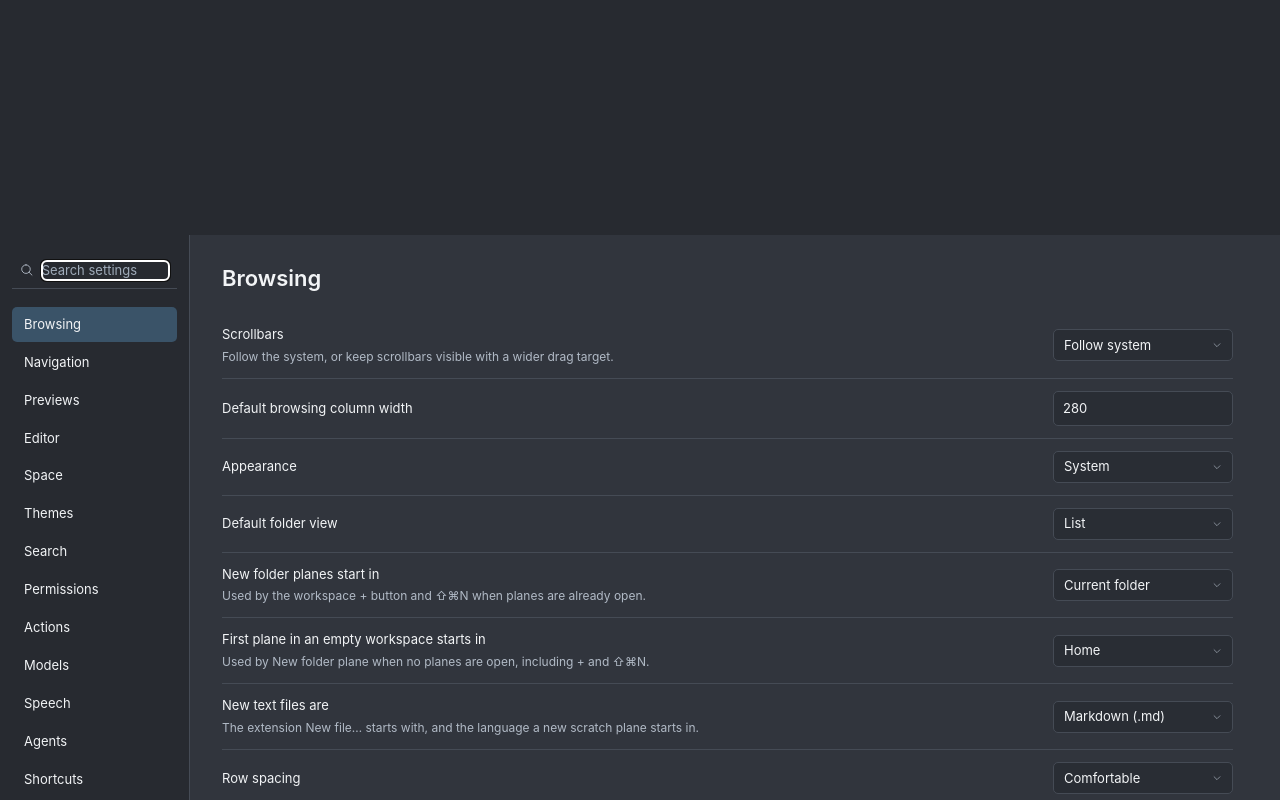
offers the four choices, with nothing beneath Off
expect the heading "Browsing" is shown: met, box top-left (222, 265), bottom-right (321, 291)
Click the button "Previews": click(94, 400) top-left (12, 383), bottom-right (177, 418)
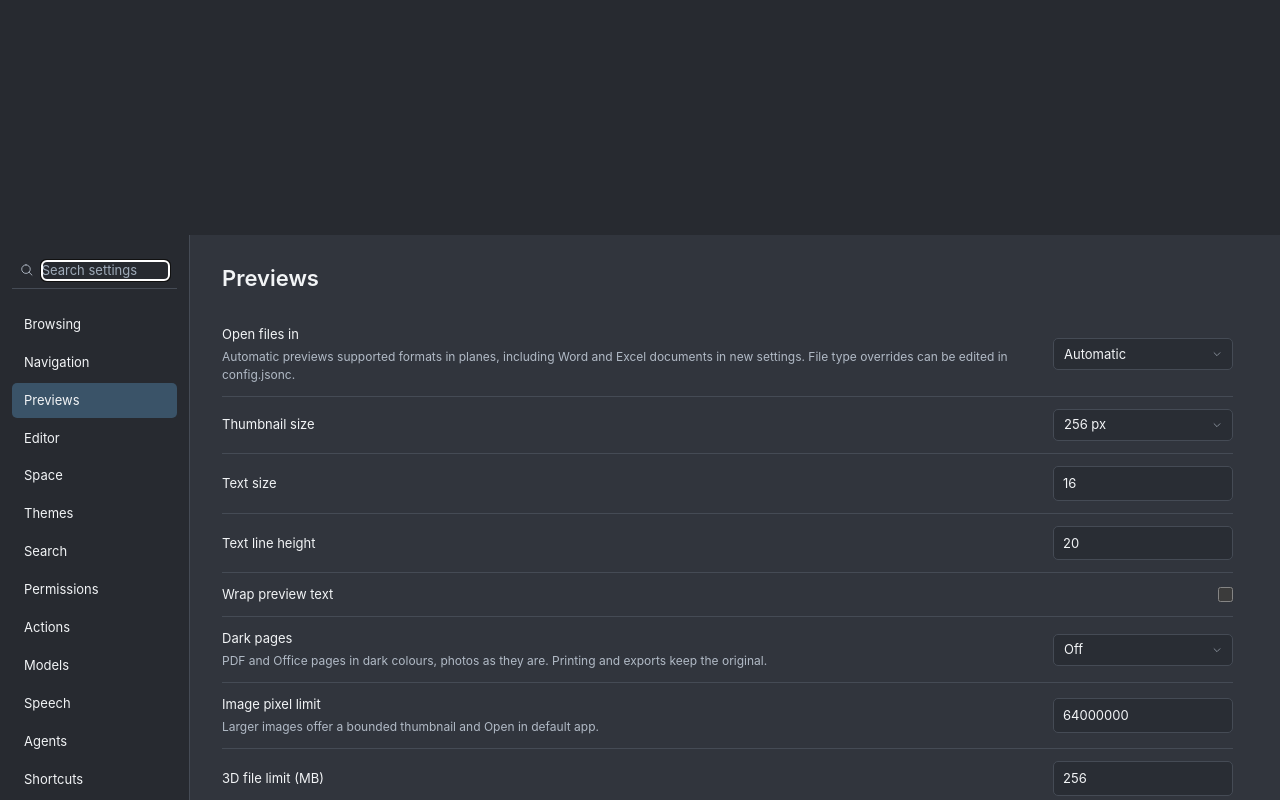
expect the heading reads "Previews": met, box top-left (222, 265), bottom-right (319, 291)
expect the label that starts with "Dark pages" is shown: met, box top-left (222, 630), bottom-right (292, 646)
expect the label that starts with "Dark pages" shows "Off": met, box top-left (1053, 634), bottom-right (1233, 666)
